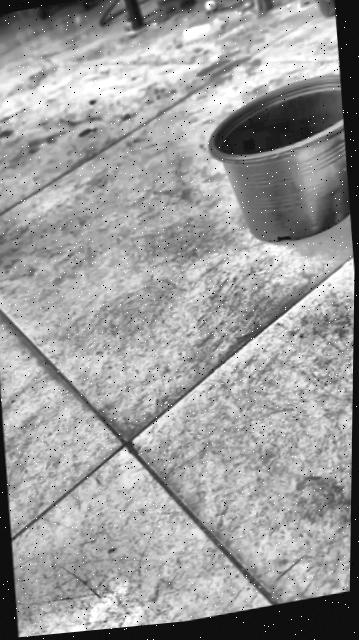pot: (201, 71, 353, 255)
